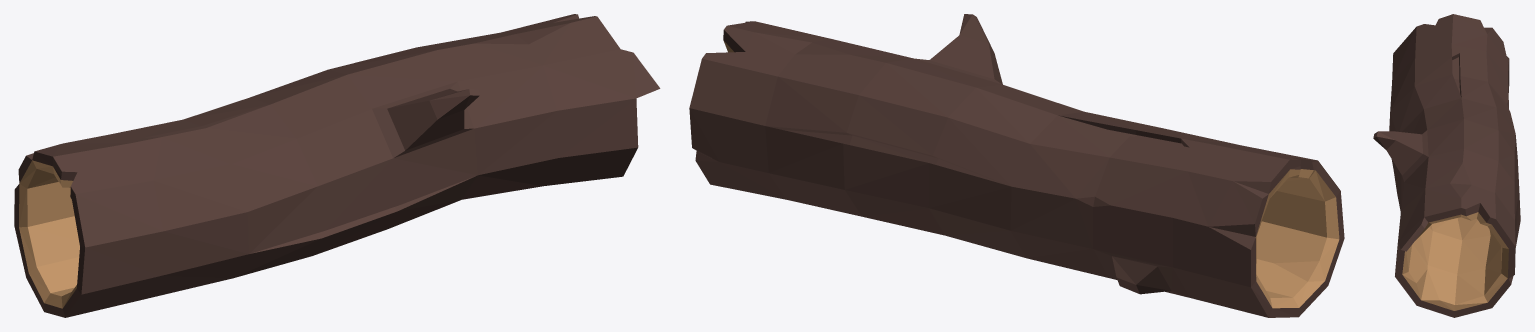
File: Log 1.fbx
3 views of the same model, side by side, from view 1: azimuth 30°, elevation 25°; view 2: azimuth 150°, elevation 25°; view 3: azimuth 270°, elevation 25° (orthographic). The views are drawn at different scales.
Parts seen in each view (by area): view 1: Log 1; view 2: Log 1; view 3: Log 1.
Part boxes in pixels (<box>): Log 1: <box>14,14,660,317</box>; Log 1: <box>689,14,1344,317</box>; Log 1: <box>1373,14,1520,317</box>.
Bounding box in the file's own units: 4.75 × 1.32 × 1.42.
